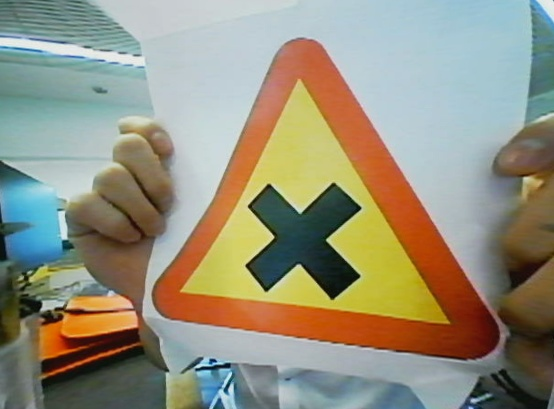junction: (159, 33, 501, 367)
